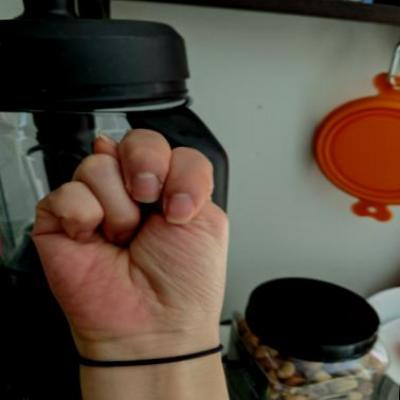hand: (22, 116, 238, 356)
